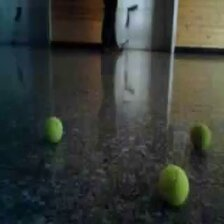tennis: (158, 164, 190, 207), (189, 125, 213, 153), (43, 116, 64, 143)
